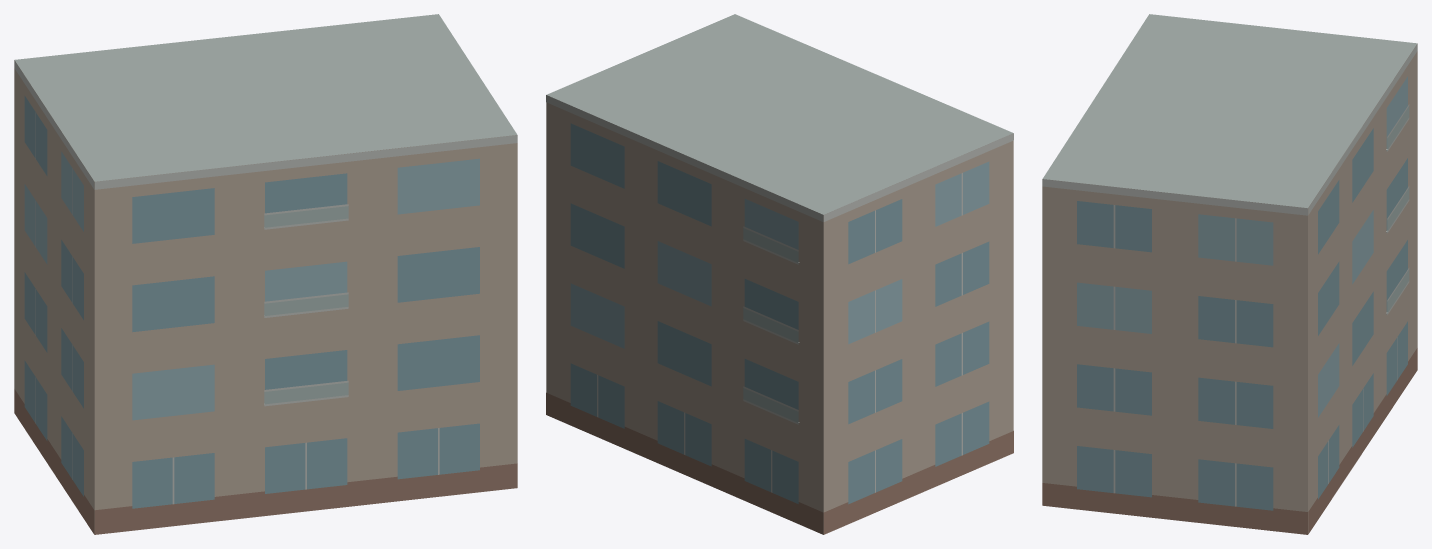
File: survey-upis-32763667.glb
The picture shows the model from 3 angles, left to right: view 1: azimuth 30°, elevation 25°; view 2: azimuth 150°, elevation 25°; view 3: azimuth 270°, elevation 25°; orthographic projection. The views are drawn at different scales.
Parts seen in each view (by area): view 1: survey-upis-32763667.tmp; view 2: survey-upis-32763667.tmp; view 3: survey-upis-32763667.tmp.
Boxes of the visible parts, <box> form: survey-upis-32763667.tmp: <box>14,14,517,534</box>; survey-upis-32763667.tmp: <box>546,14,1013,534</box>; survey-upis-32763667.tmp: <box>1042,14,1417,534</box>.
Bounding box in the file's own units: 13.51 × 10.59 × 11.03.
